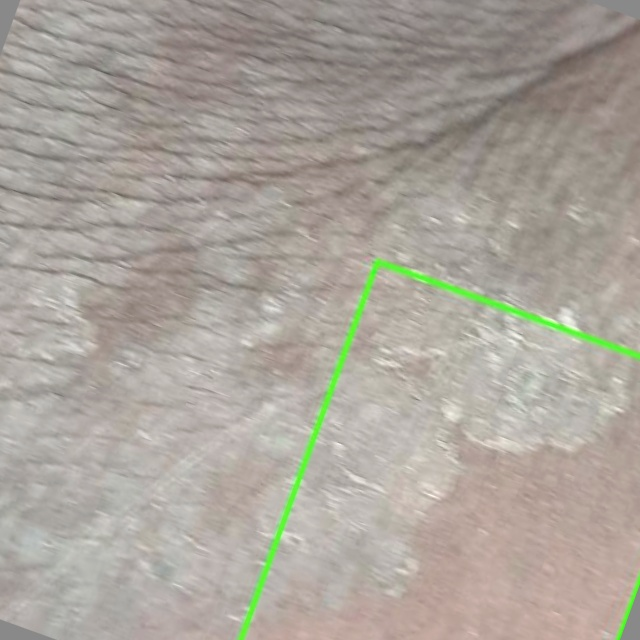Eczema: (241, 261, 639, 639)
